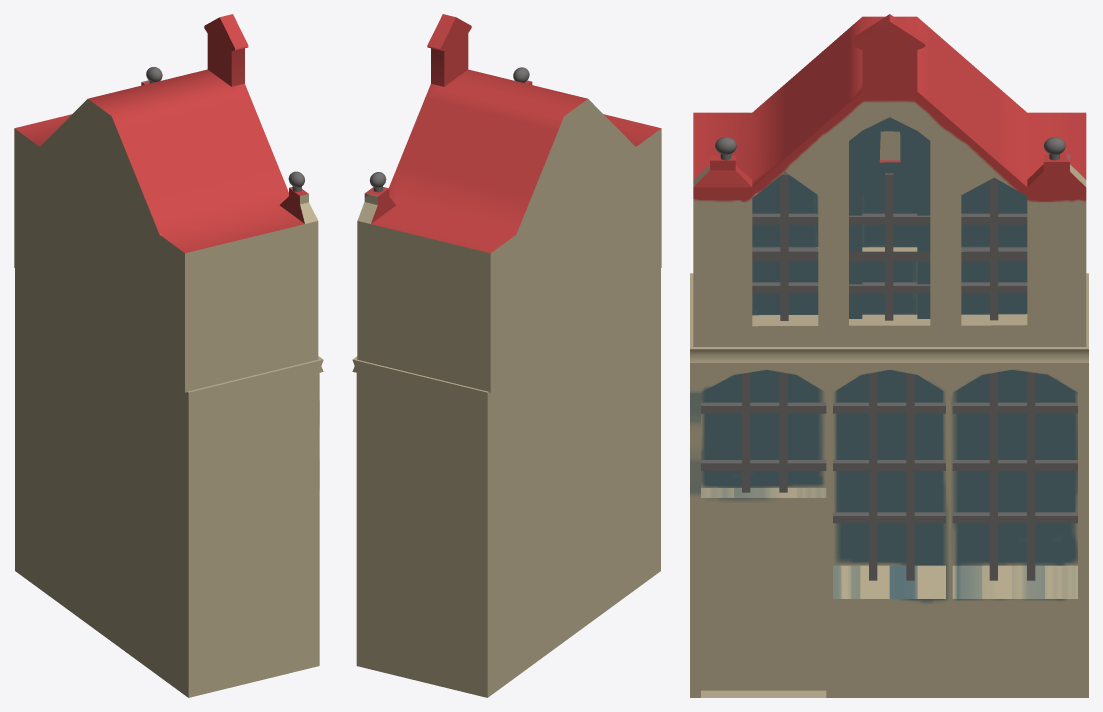
Rendered from redhouse.fbx.
The picture shows the model from 3 angles, left to right: view 1: azimuth 30°, elevation 25°; view 2: azimuth 150°, elevation 25°; view 3: azimuth 270°, elevation 25°; orthographic projection. The views are drawn at different scales.
Visible parts, largest first — view 1: pCube2, pCube1; view 2: pCube2, pCube1; view 3: pCube2, pCube1, pCube9, pCube10, pCube11, pCube15, pCube16, pCube6, pCube3, pCube5, pCube4, pCube14 (+4 smaller).
Boxes of the visible parts, left/top/right/bottom form: pCube2: left=15, top=268, right=323, bottom=697; pCube1: left=14, top=14, right=318, bottom=392; pCube2: left=352, top=268, right=660, bottom=697; pCube1: left=357, top=14, right=661, bottom=392; pCube2: left=690, top=273, right=1088, bottom=697; pCube1: left=693, top=14, right=1086, bottom=346; pCube9: left=701, top=402, right=1077, bottom=413; pCube10: left=701, top=460, right=1077, bottom=470; pCube11: left=833, top=512, right=1077, bottom=523; pCube15: left=752, top=213, right=1027, bottom=224; pCube16: left=752, top=282, right=1027, bottom=293; pCube6: left=1027, top=372, right=1035, bottom=580; pCube3: left=869, top=372, right=877, bottom=580; pCube5: left=989, top=372, right=997, bottom=580; pCube4: left=906, top=373, right=914, bottom=580; pCube14: left=885, top=173, right=893, bottom=320.
Bounding box in the file's own units: 4.67 × 19.14 × 10.23.
